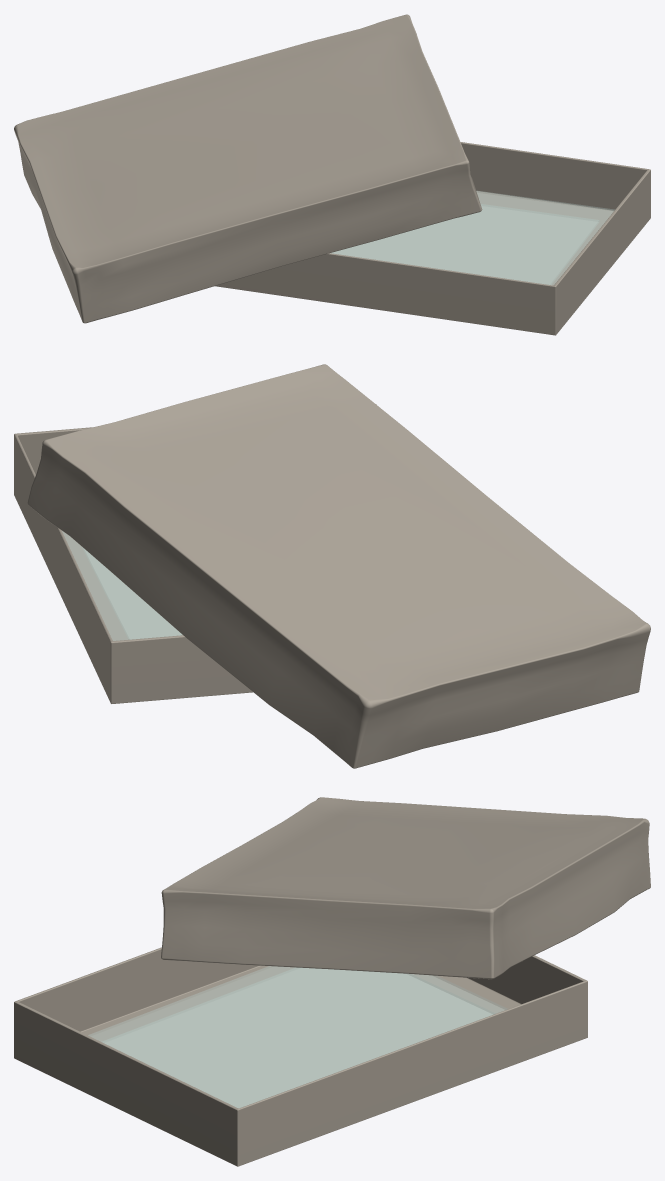
The model's file is demo_glassplatebox.glb.
3 views of the same model, one above another, from view 1: azimuth 30°, elevation 25°; view 2: azimuth 150°, elevation 25°; view 3: azimuth 270°, elevation 25° (orthographic). The views are drawn at different scales.
Parts seen in each view (by area): view 1: glassplatebox_lid.001, glasplatebox_bottom.001, glassplate1.001, glassplate.001; view 2: glassplatebox_lid.001, glasplatebox_bottom.001, glassplate1.001, glassplate.001; view 3: glasplatebox_bottom.001, glassplatebox_lid.001, glassplate.001, glassplate1.001.
Boxes of the visible parts, x1=… form: glassplatebox_lid.001: x1=14, y1=14, x2=482, y2=323; glasplatebox_bottom.001: x1=215, y1=142, x2=650, y2=335; glassplate1.001: x1=332, y1=191, x2=614, y2=284; glassplate.001: x1=333, y1=204, x2=598, y2=284; glassplatebox_lid.001: x1=27, y1=364, x2=650, y2=768; glasplatebox_bottom.001: x1=14, y1=404, x2=376, y2=703; glassplate1.001: x1=62, y1=531, x2=181, y2=640; glassplate.001: x1=82, y1=547, x2=181, y2=638; glasplatebox_bottom.001: x1=14, y1=947, x2=587, y2=1166; glassplatebox_lid.001: x1=161, y1=797, x2=650, y2=979; glassplate.001: x1=88, y1=966, x2=506, y2=1107; glassplate1.001: x1=102, y1=968, x2=495, y2=1107.
Size of the model in its own units: 13.9 by 3.87 by 12.2.
